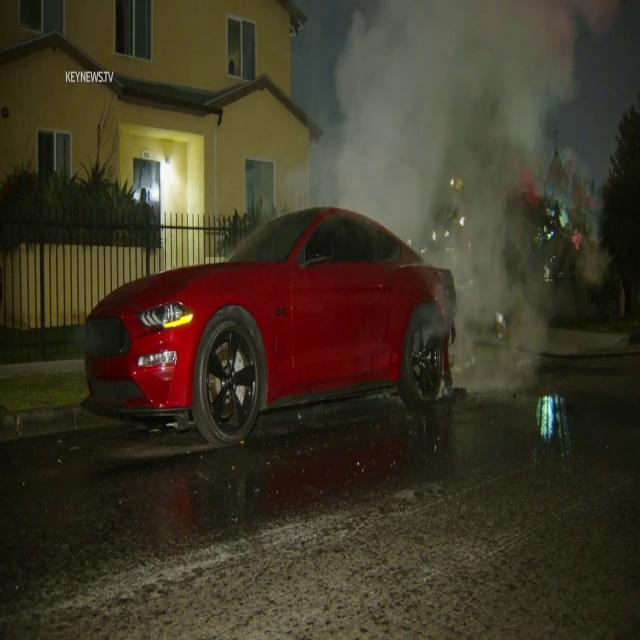Smoke: (324, 0, 592, 244)
